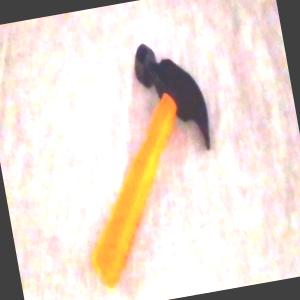martelo: (53, 31, 237, 296)
